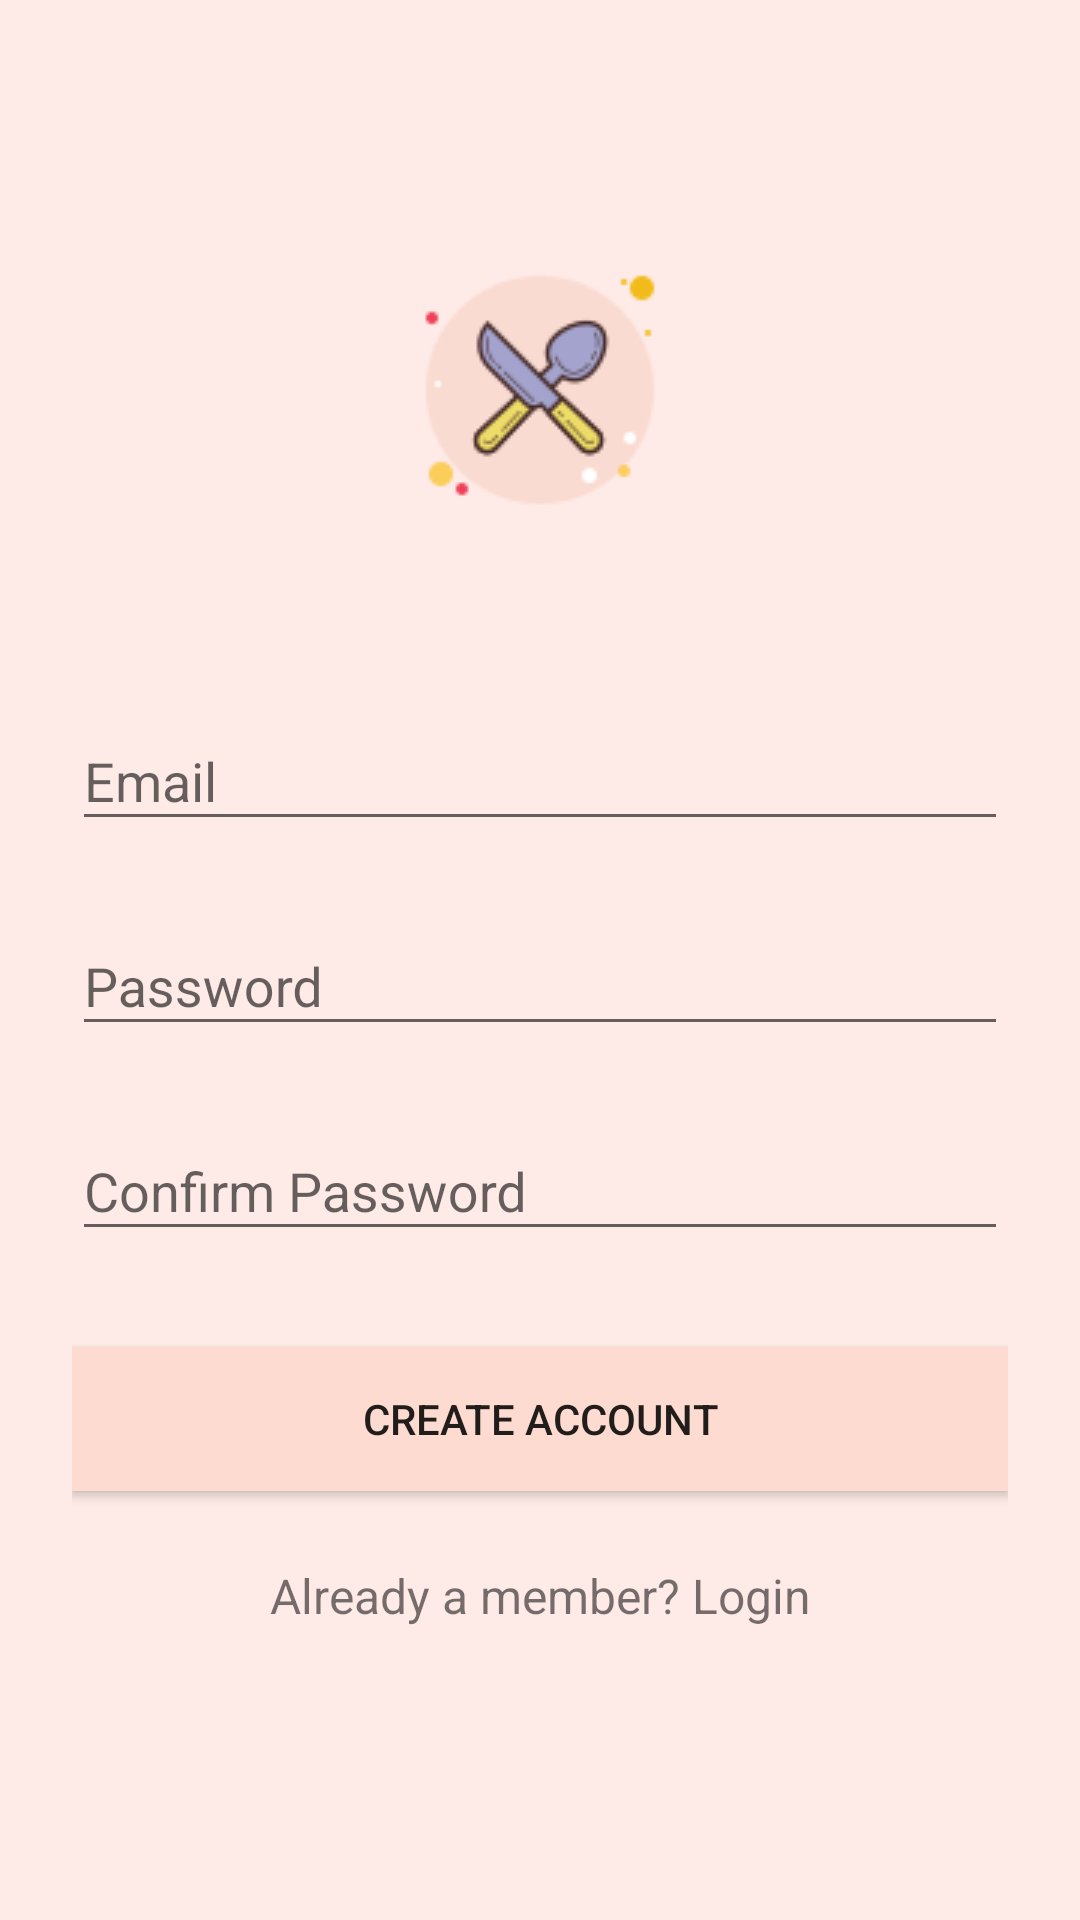

Icon bounding boxes for this 1080*1920 phone screenshot, format (x1, y1, x2, y2):
dining: (425, 275, 655, 504)
